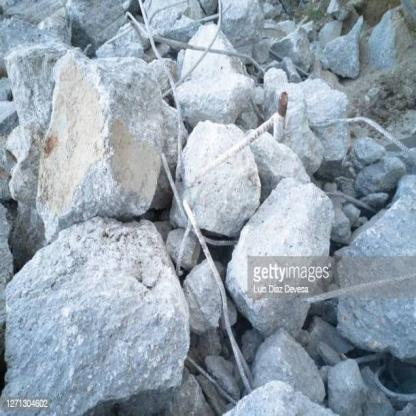rebar: (125, 0, 288, 407), (309, 108, 414, 168), (298, 273, 414, 307), (350, 347, 415, 403), (320, 187, 381, 217)
